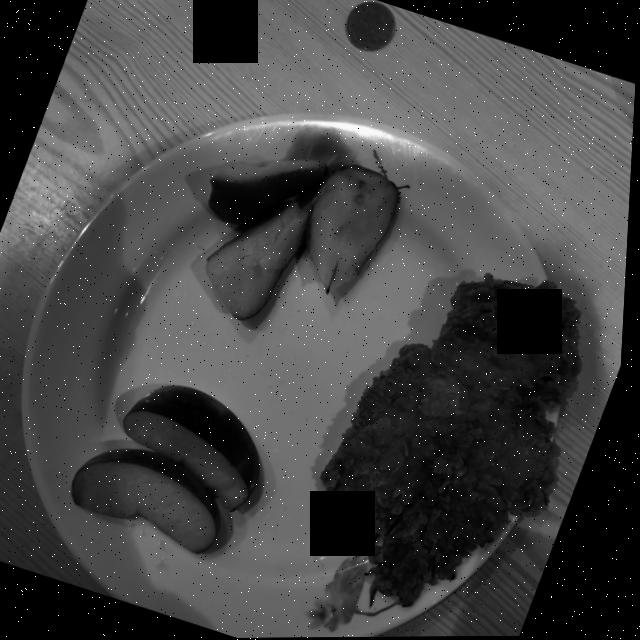apple -sliced-: (77, 385, 265, 553)
coin: (346, 1, 396, 50)
fried chicken cutlet: (326, 274, 586, 606)
